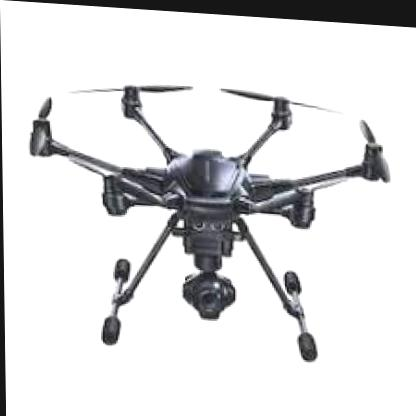UAS: (29, 73, 392, 362)
